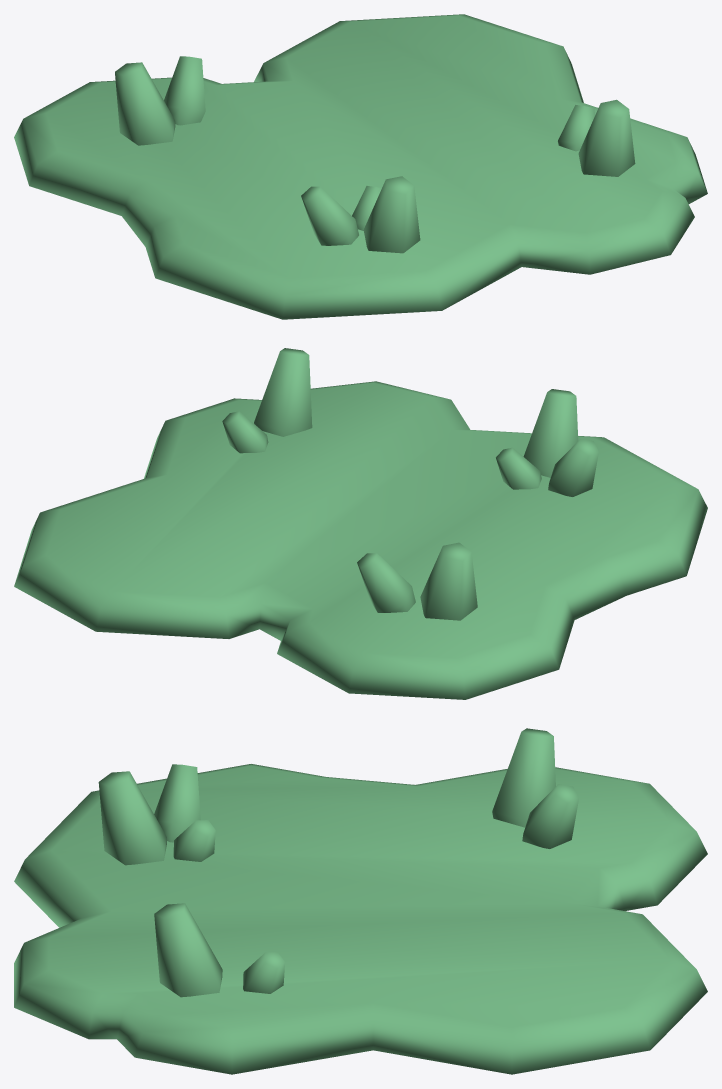
The model's file is patch-grass.glb.
The picture shows the model from 3 angles, top to bottom: view 1: azimuth 30°, elevation 25°; view 2: azimuth 150°, elevation 25°; view 3: azimuth 270°, elevation 25°; orthographic projection. The views are drawn at different scales.
Parts seen in each view (by area): view 1: patch-grass; view 2: patch-grass; view 3: patch-grass.
Part boxes in pixels (bbox=[...]): patch-grass: bbox=[14, 14, 707, 319]; patch-grass: bbox=[14, 348, 707, 699]; patch-grass: bbox=[14, 728, 707, 1074].
Size of the model in its own units: 1 by 0.171 by 1.
Materials: 1 (1 with a texture image).
